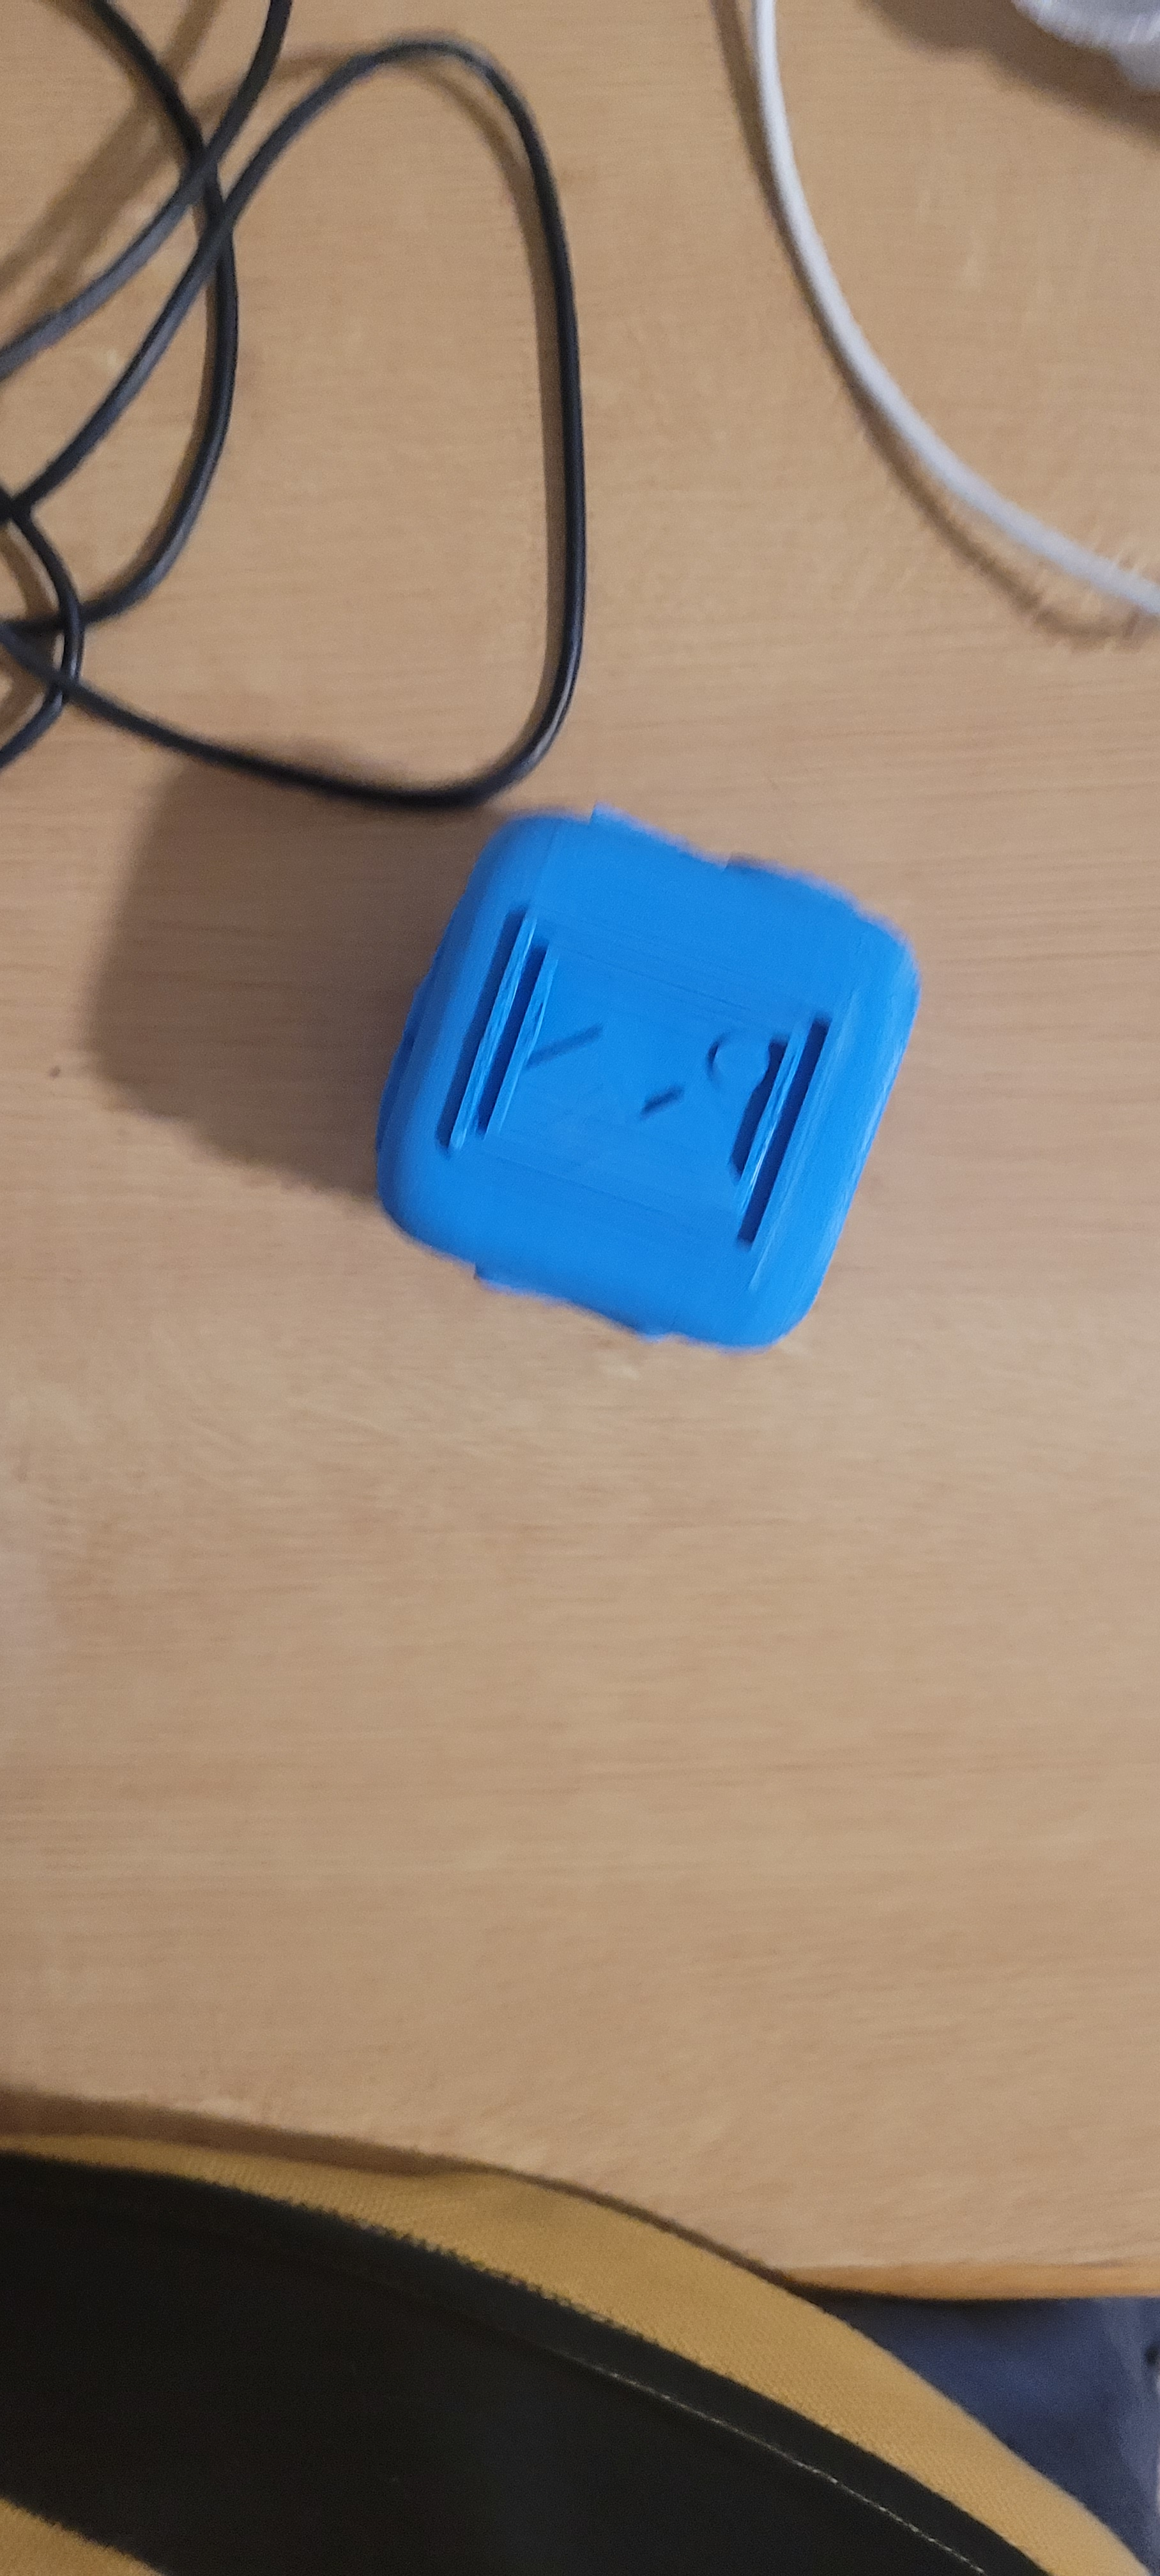Story: (450, 841, 845, 1311)
